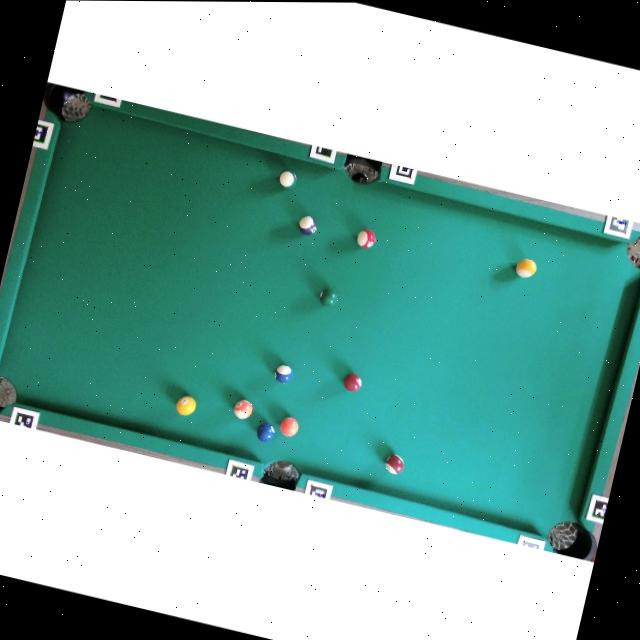other: (276, 167, 300, 192), (514, 256, 538, 280), (382, 453, 406, 476), (254, 420, 276, 444), (174, 393, 196, 417), (278, 415, 300, 438), (354, 227, 376, 250), (232, 397, 254, 420), (296, 213, 318, 236), (341, 371, 363, 393), (317, 287, 338, 308), (273, 363, 294, 384)
